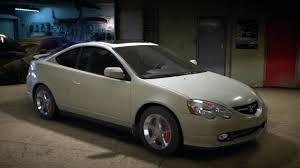car: (21, 38, 265, 155)
